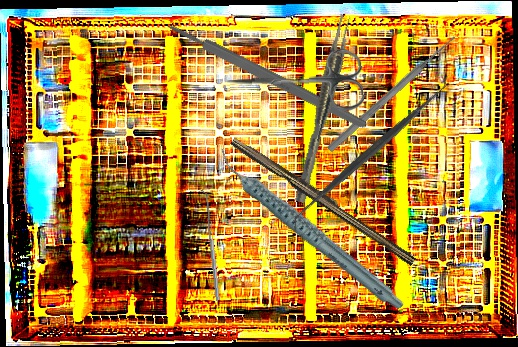Handpiece: (216, 116, 406, 341)
Iris Scissors: (225, 47, 365, 116)
Pusher: (325, 33, 459, 154)
Scalpel Handle: (228, 133, 420, 267), (166, 19, 369, 132)
Spatula Surgical: (280, 74, 459, 233), (200, 188, 220, 302)
Tissue Forceps: (288, 13, 356, 204)
